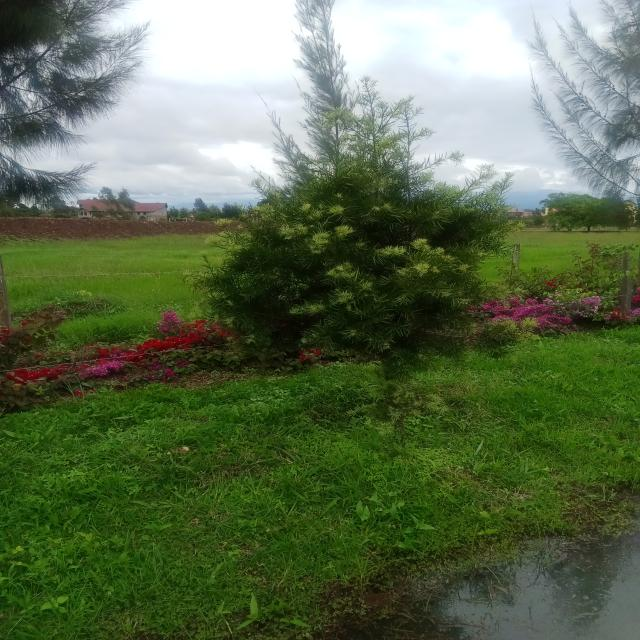Podocarpus falcatus: (204, 98, 518, 409)
